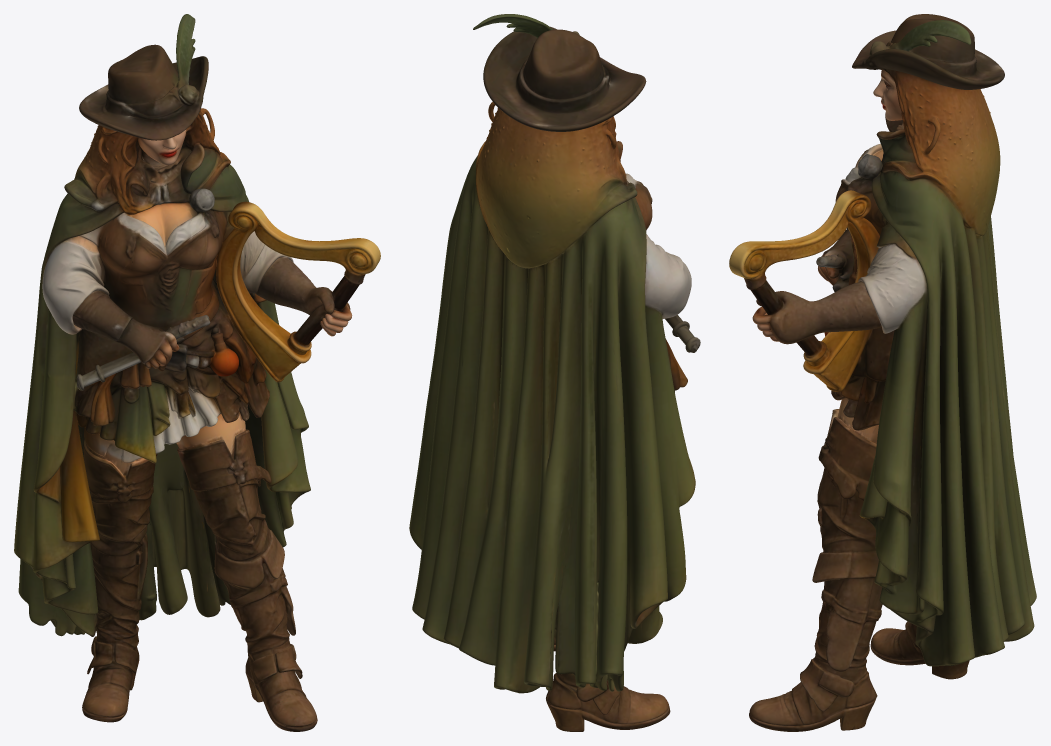
The model's file is bard_full_female_01.glb.
3 views of the same model, side by side, from view 1: azimuth 30°, elevation 25°; view 2: azimuth 150°, elevation 25°; view 3: azimuth 270°, elevation 25° (orthographic). The views are drawn at different scales.
Parts seen in each view (by area): view 1: material; view 2: material; view 3: material.
Part boxes in pixels (left/top/right/bottom): material: left=14, top=14, right=380, bottom=731; material: left=409, top=14, right=700, bottom=731; material: left=729, top=14, right=1036, bottom=731.
Size of the model in its own units: 0.4714 by 1.12 by 0.4568.
Materials: 1 (1 with a texture image).
